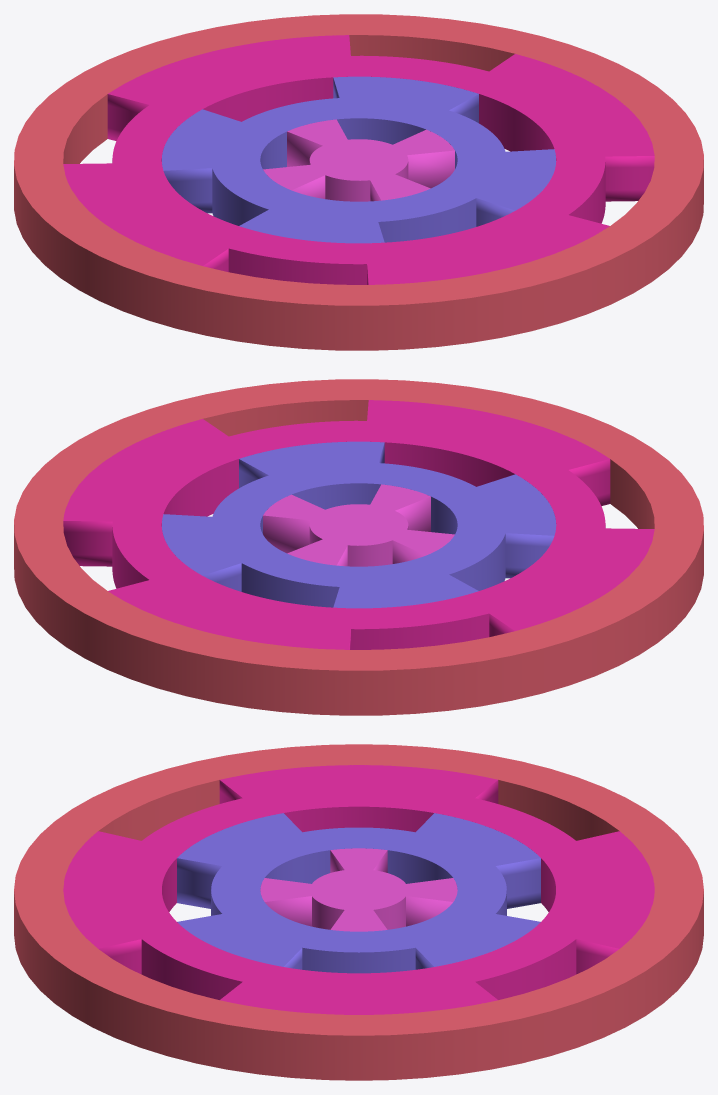
File: Map-J-test.fbx
The picture shows the model from 3 angles, top to bottom: view 1: azimuth 30°, elevation 25°; view 2: azimuth 150°, elevation 25°; view 3: azimuth 270°, elevation 25°; orthographic projection.
Parts seen in each view (by area): view 1: Cylinder.010; view 2: Cylinder.010; view 3: Cylinder.010.
Boxes of the visible parts, left/top/right/bottom form: Cylinder.010: left=14, top=14, right=703, bottom=350; Cylinder.010: left=14, top=379, right=703, bottom=715; Cylinder.010: left=14, top=744, right=703, bottom=1080.
Size of the model in its own units: 2782 by 200 by 2782.
